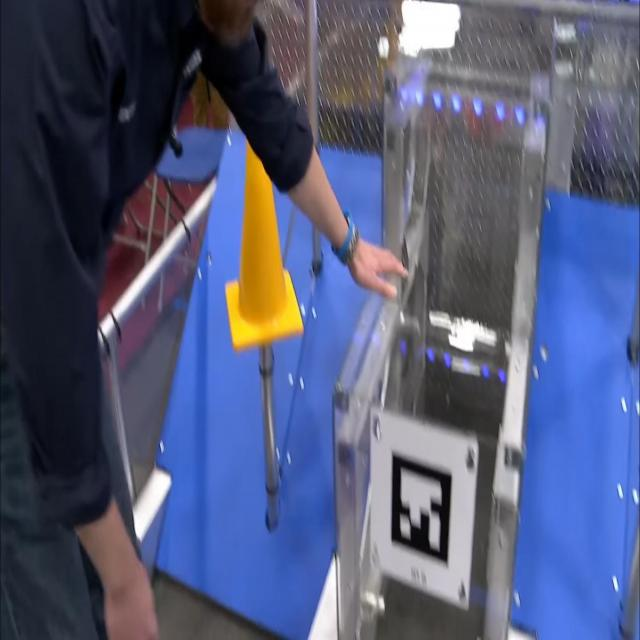frc_cone: (221, 112, 310, 352)
